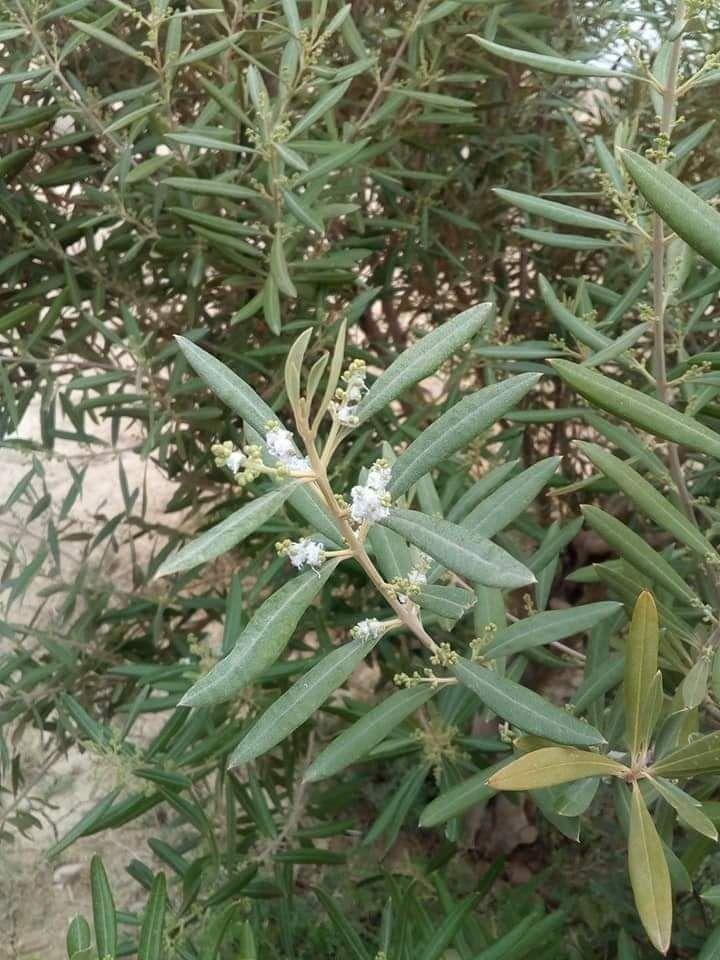Psyllid: (334, 456, 408, 536), (273, 526, 326, 588), (260, 426, 318, 480), (324, 376, 376, 430), (197, 437, 255, 483), (384, 554, 434, 600), (345, 616, 395, 648)
